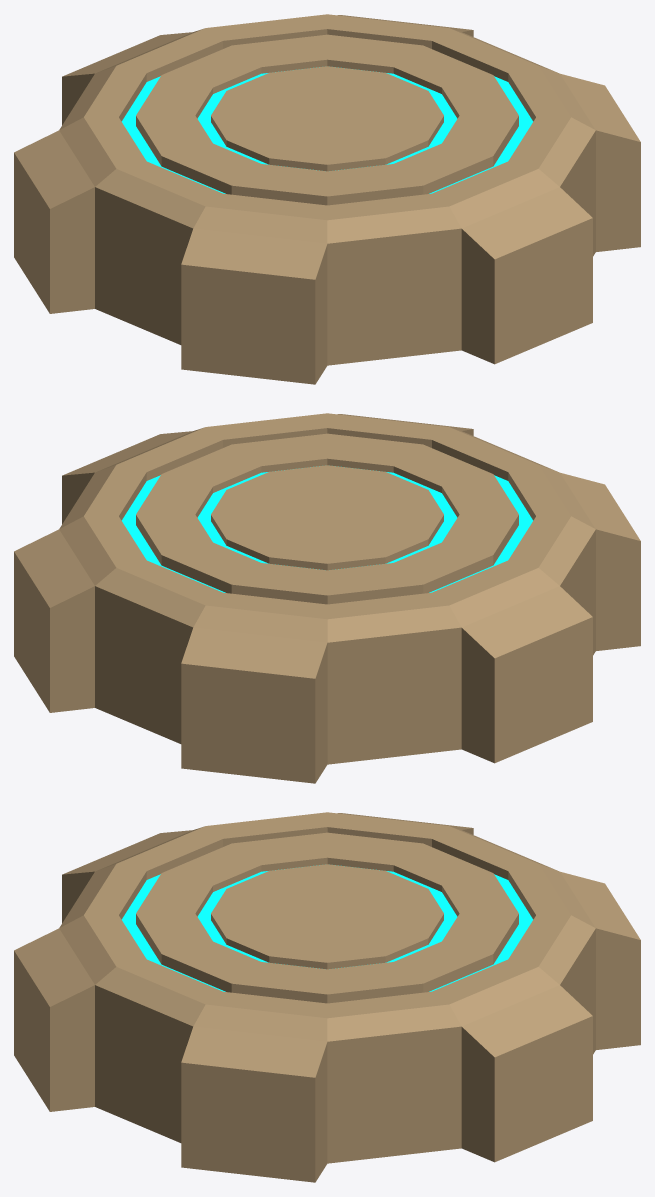
File: WayStone.fbx
The picture shows the model from 3 angles, top to bottom: view 1: azimuth 30°, elevation 25°; view 2: azimuth 150°, elevation 25°; view 3: azimuth 270°, elevation 25°; orthographic projection.
Visible parts, largest first — view 1: WayStone; view 2: WayStone; view 3: WayStone.
Boxes of the visible parts, bbox=[...] form: WayStone: bbox=[14, 14, 640, 384]; WayStone: bbox=[14, 413, 640, 783]; WayStone: bbox=[14, 812, 640, 1182].
Size of the model in its own units: 467 by 112 by 467.
